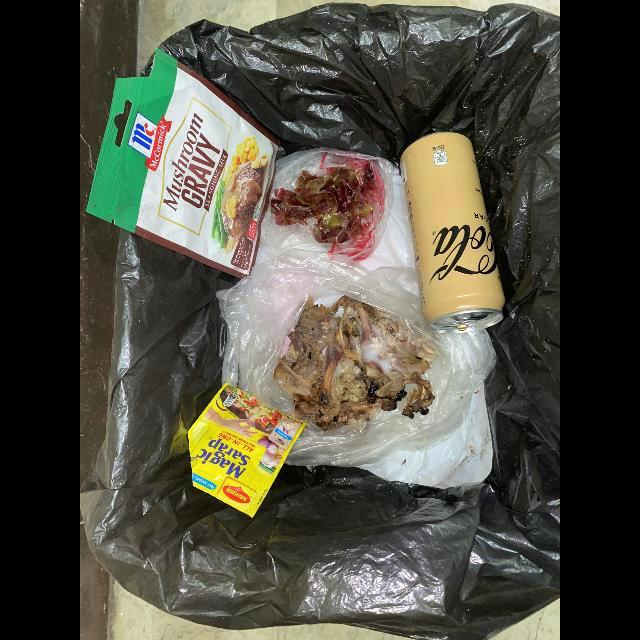aluminum: (400, 132, 506, 335)
left_over_food: (273, 295, 439, 432)
plastic_bag: (217, 257, 495, 469), (260, 147, 394, 262), (358, 383, 493, 490)
plastic_sachet: (86, 52, 284, 281), (187, 383, 306, 519)
